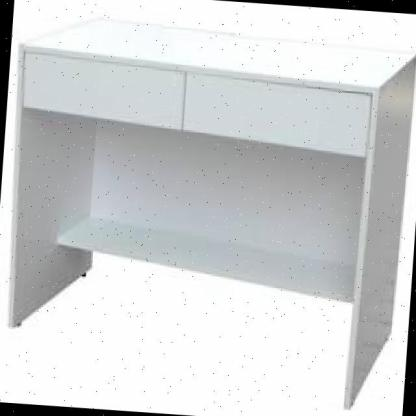Table: (0, 12, 416, 416)
